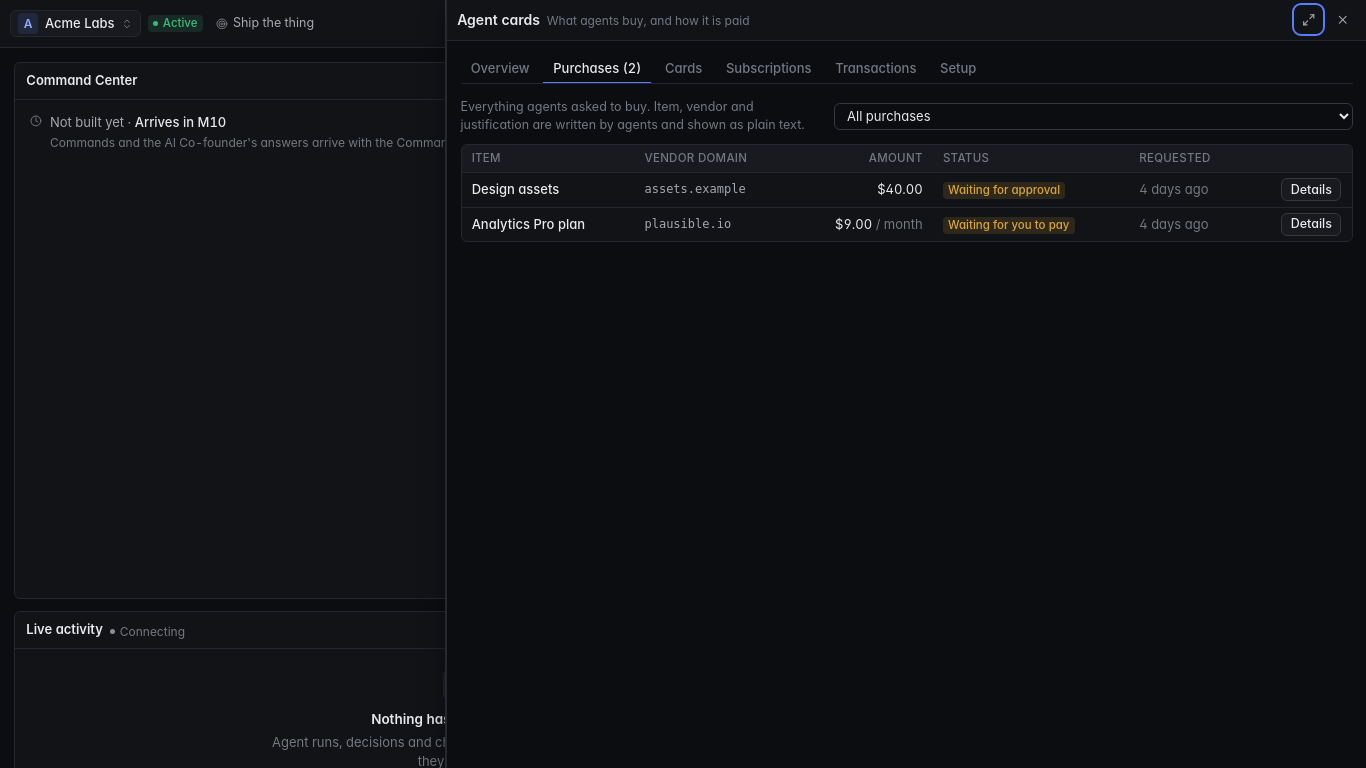
Test case: Wallet panel › purchases: a purchase the AI Co-founder decides has no human Approve button
This screenshot has width=1366, height=768.
Click the button with aria-label "Details of Design assets" at (1311, 190), box 1281,178 -> 1341,201
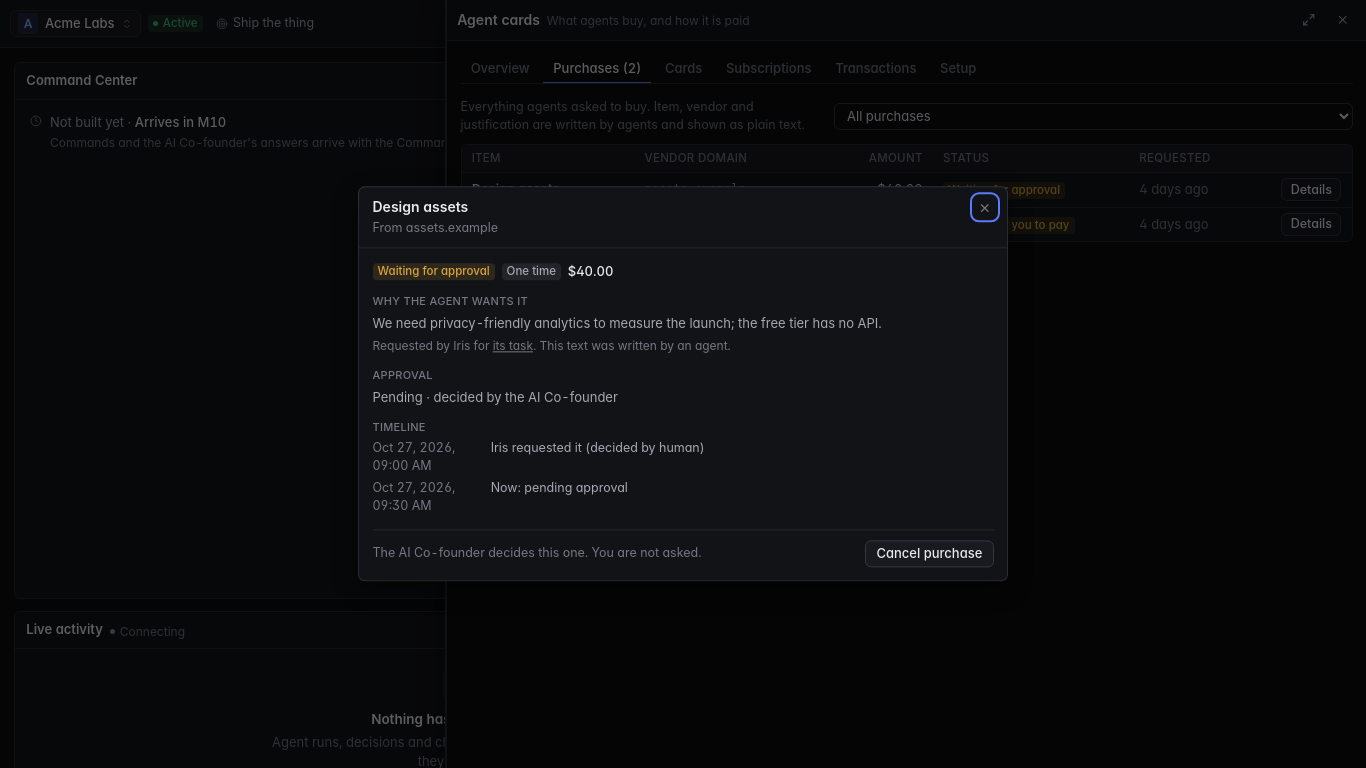
Now the text "The AI Co-founder decides this one. You are not asked." is shown, box 372,545 -> 702,563
